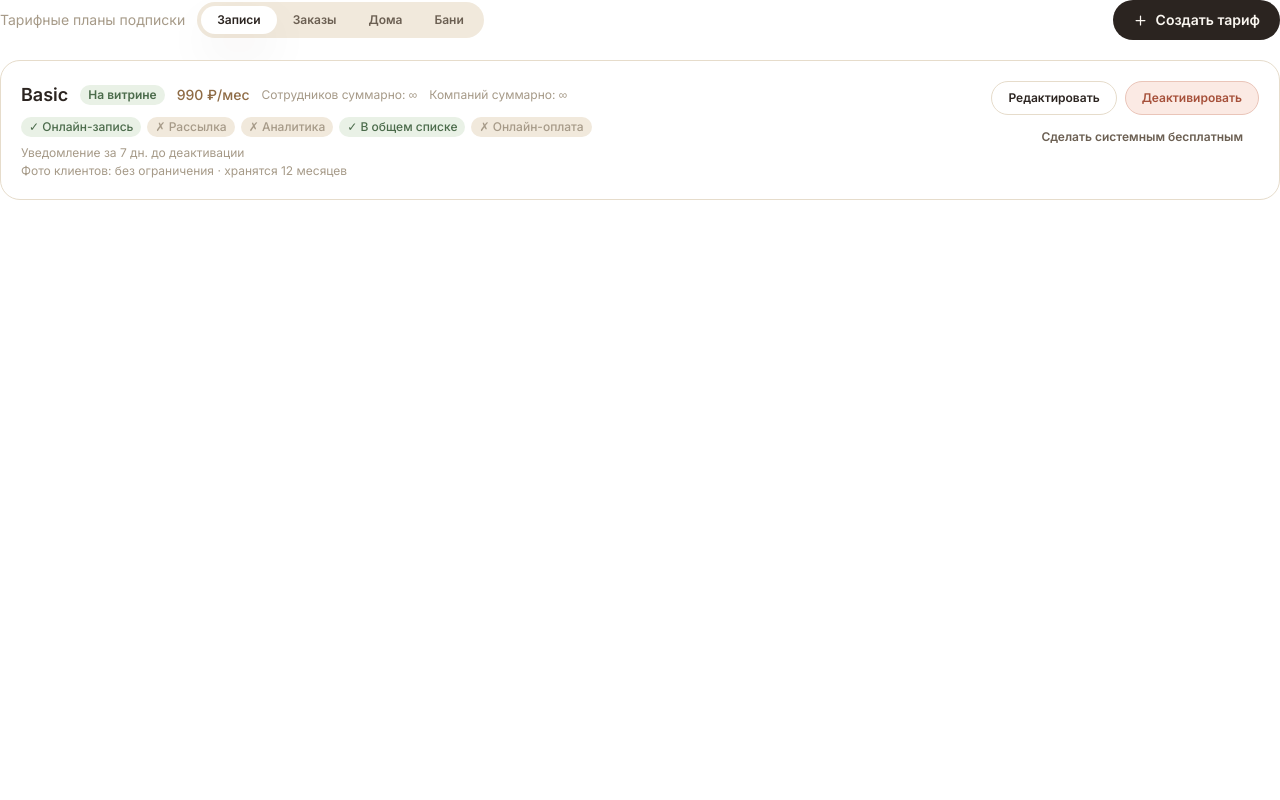
Test: PlansTab — surviving a pre-cycle-7 API response (US-110/US-111) › still renders the plan list when the option catalog fails to load, and explains instead of showing the matrix
Expected: the heading "Basic" is shown, [21,81,68,109]
Click the button "Редактировать" at (1054, 98), box [992,81,1117,115]
(page scrolled)
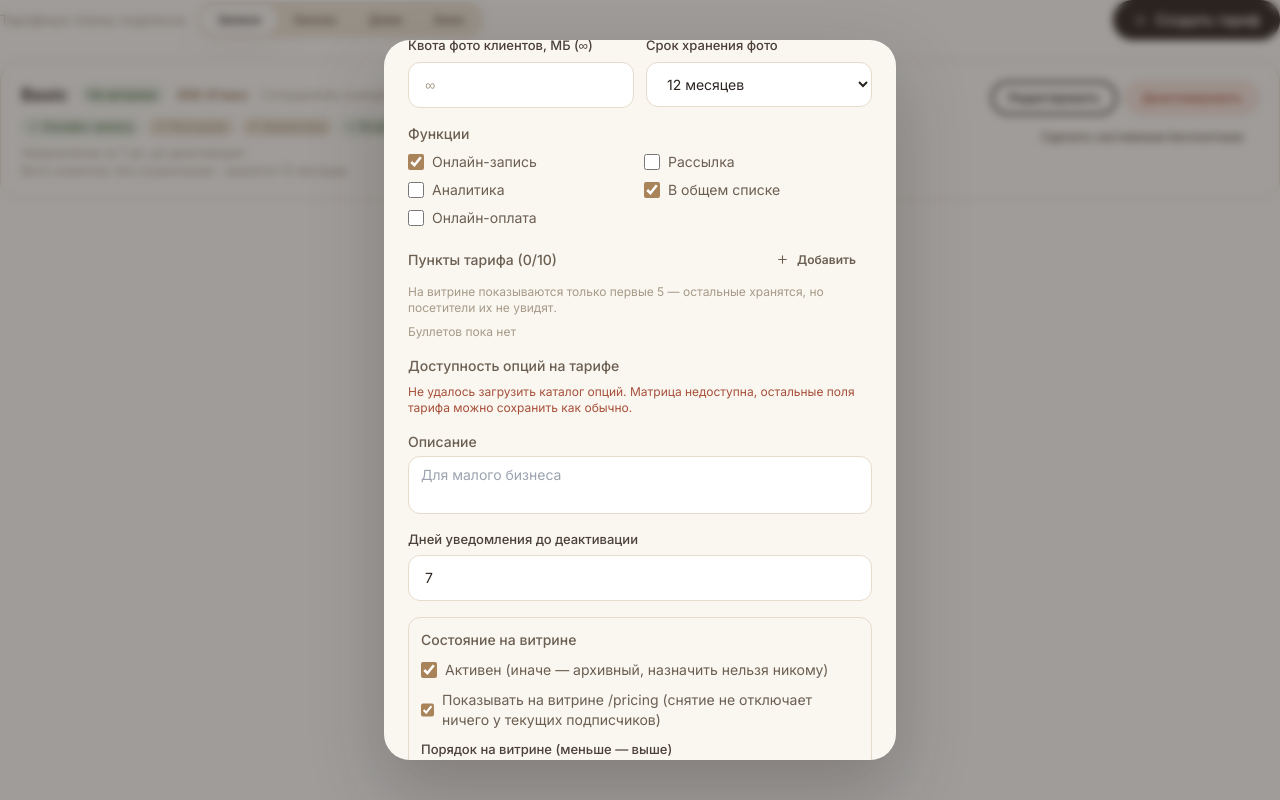
Expected: the text "Не удалось загрузить каталог опций" is shown, [408,384,855,415]
